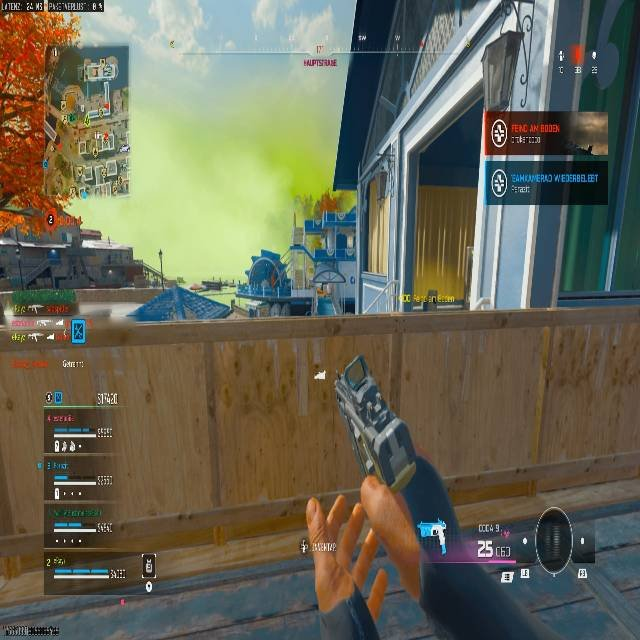player: (247, 303, 257, 318)
